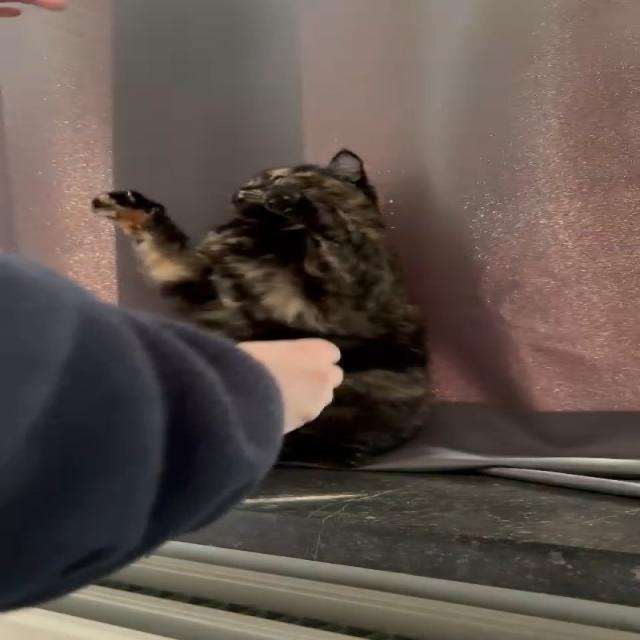authorized: (90, 147, 433, 470)
